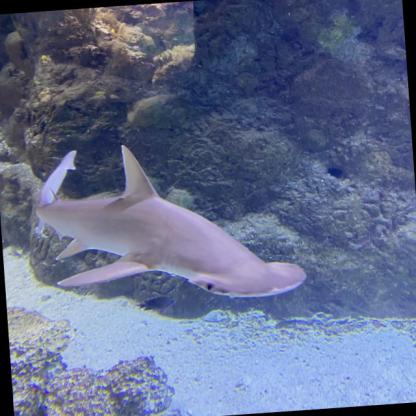shark: (31, 132, 308, 320)
